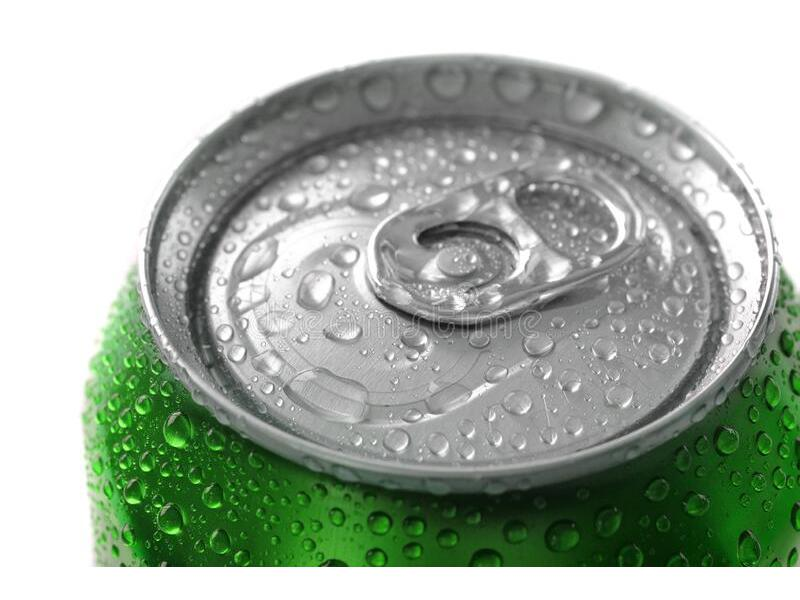can: (88, 44, 800, 562)
